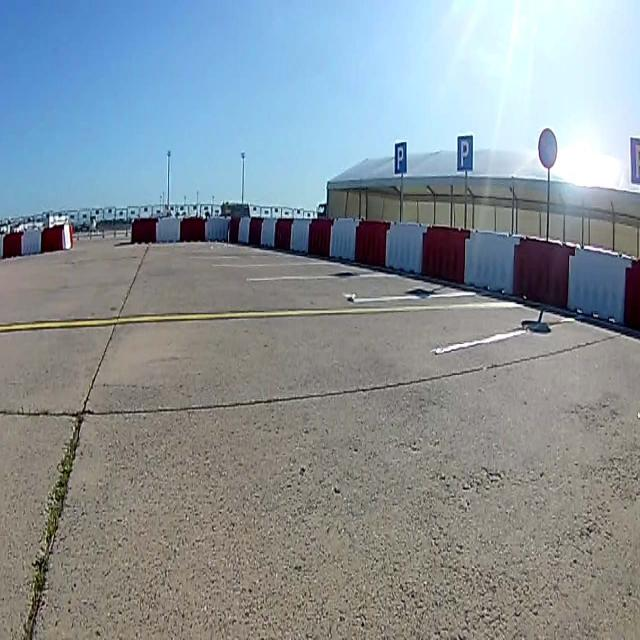park: (458, 135, 472, 170), (394, 143, 406, 173)
parkyasak: (538, 130, 559, 170)
